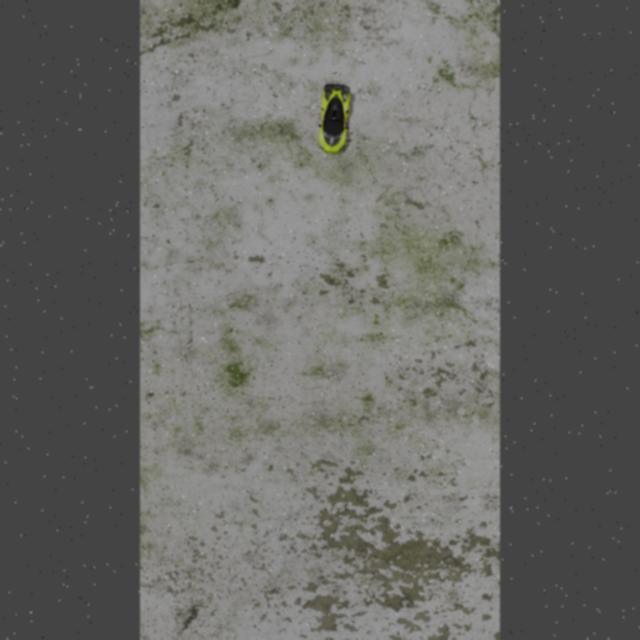car: (315, 81, 352, 156)
